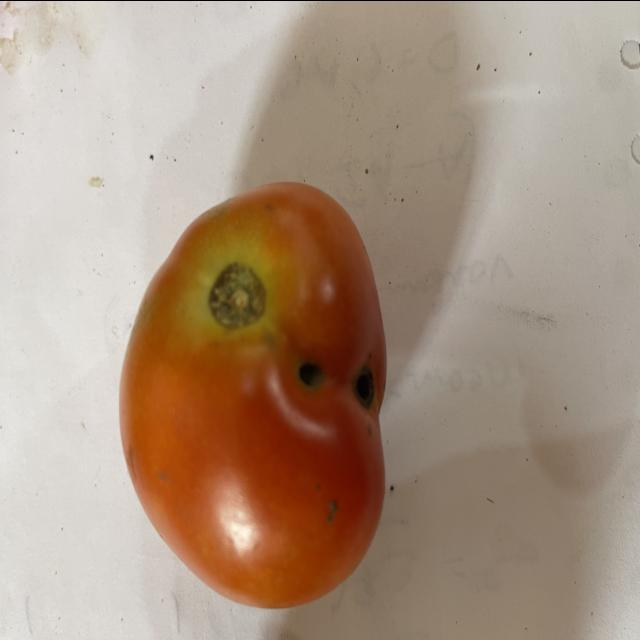fruitworm_bore: (290, 354, 386, 418)
